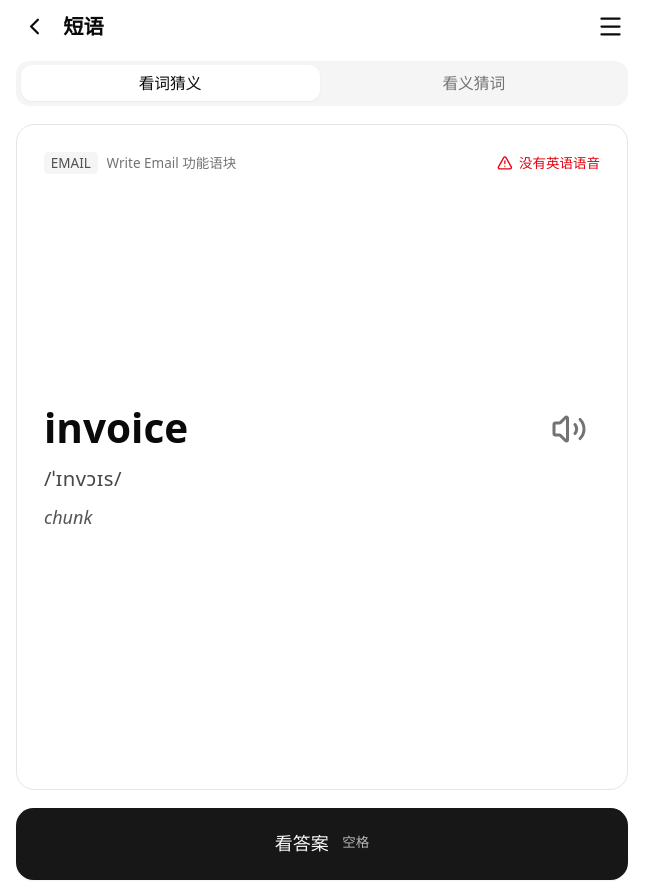
Scenario: 音标与朗读 › 系统没有英语声音时不拿别的语言的声音硬读，而是说清楚原因
expect the text "没有英语语音" is shown: met, box [519,154,600,172]
Click the button named "朗读" at point(568, 430), box [537,398,600,461]
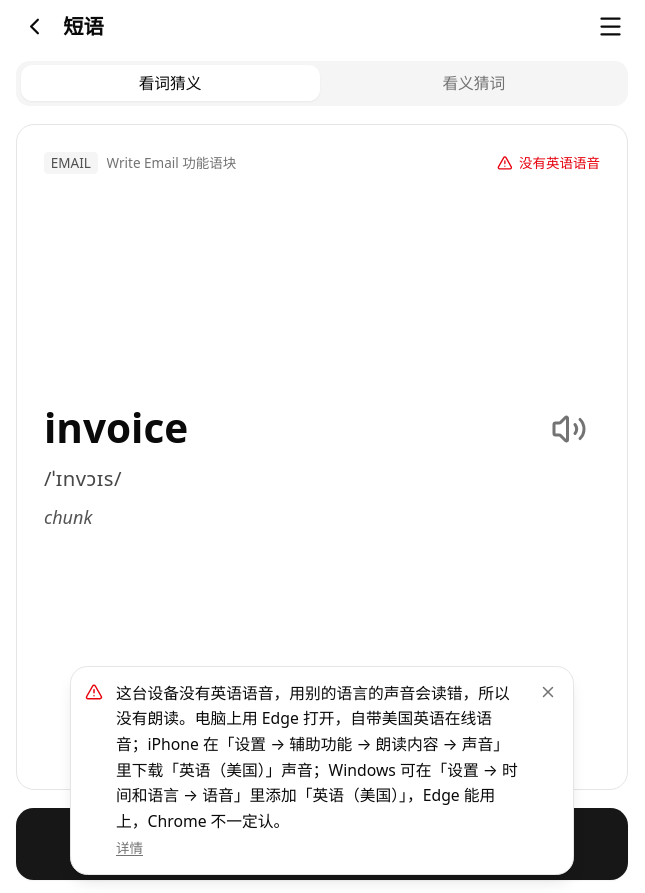
expect the message shows "这台设备没有英语语音": met, box [116,682,518,832]
